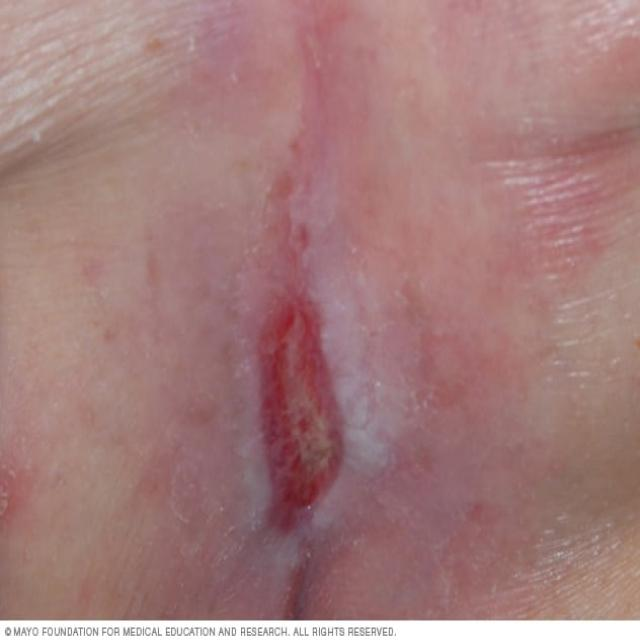stage-2: (259, 294, 344, 529)
